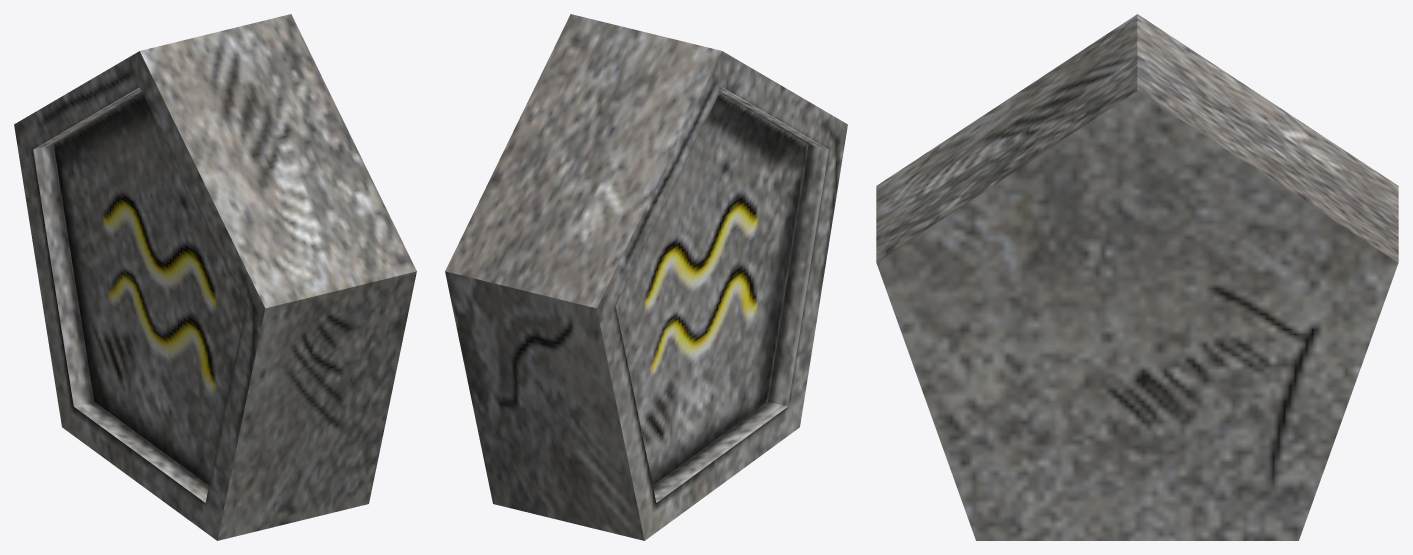
Rendered from glyphe_eau.fbx.
3 renders of one model, left to right at view 1: azimuth 30°, elevation 25°; view 2: azimuth 150°, elevation 25°; view 3: azimuth 270°, elevation 25°, orthographic. The views are drawn at different scales.
Visible parts, largest first — view 1: glyphe_eau1; view 2: glyphe_eau1; view 3: glyphe_eau1.
Part boxes in pixels (x1=…): glyphe_eau1: x1=14, y1=14, x2=416, y2=540; glyphe_eau1: x1=445, y1=14, x2=847, y2=540; glyphe_eau1: x1=876, y1=14, x2=1398, y2=540.
Size of the model in its own units: 4.89 by 13.35 by 14.03.
